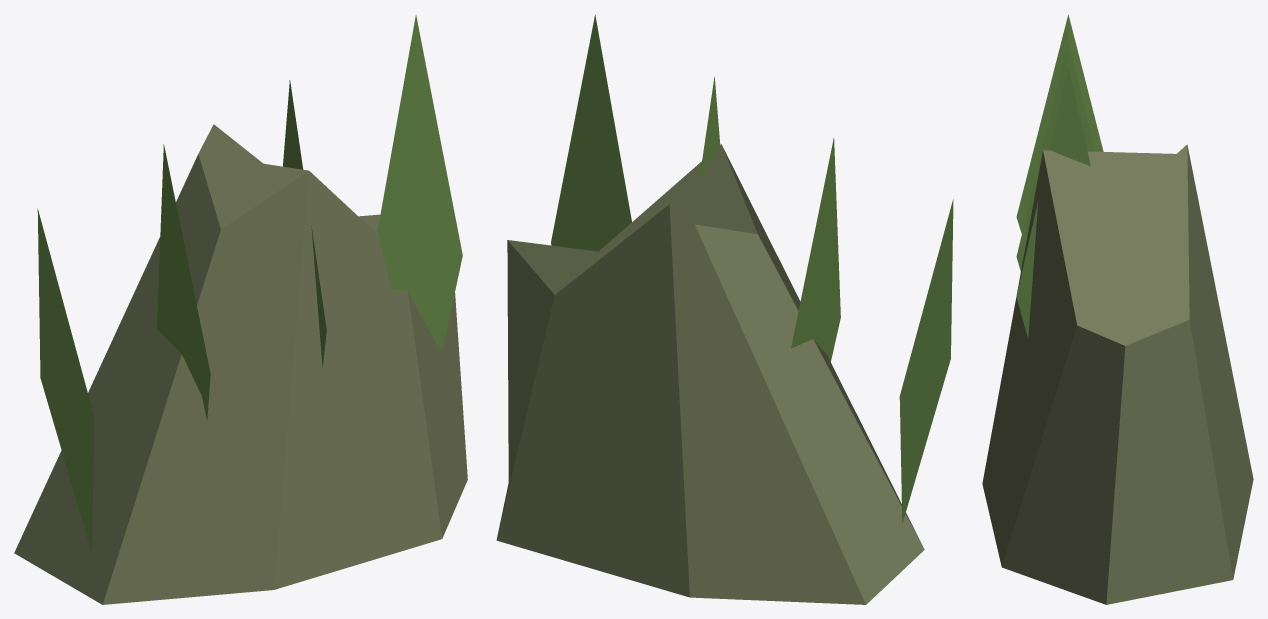
File: map-boundaries-v5__meadow_07.glb
3 renders of one model, left to right at view 1: azimuth 30°, elevation 25°; view 2: azimuth 150°, elevation 25°; view 3: azimuth 270°, elevation 25°, orthographic. The views are drawn at different scales.
Parts seen in each view (by area): view 1: meadow_07; view 2: meadow_07; view 3: meadow_07.
Part boxes in pixels (x1,y1,x2,y2): meadow_07: [14, 15, 467, 604]; meadow_07: [496, 14, 953, 604]; meadow_07: [982, 14, 1253, 604].
Size of the model in its own units: 1.25 by 1.32 by 0.6789.
